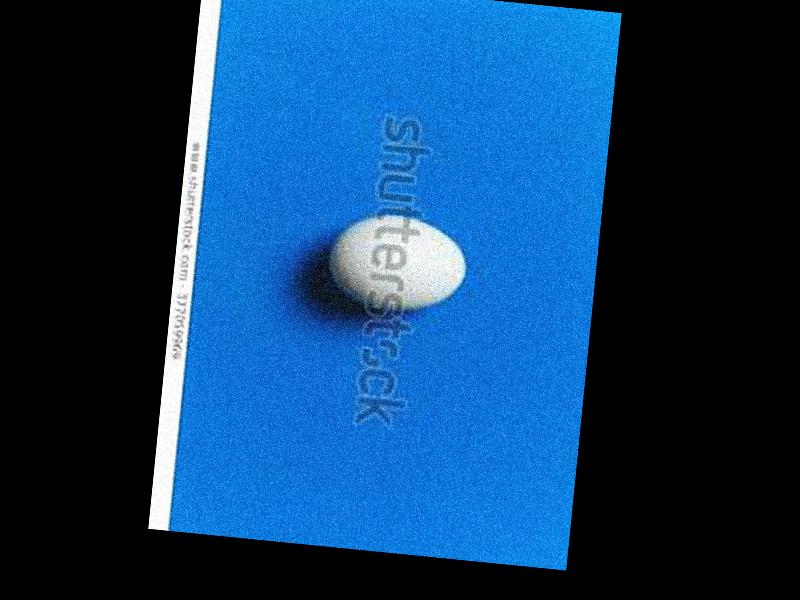Eggs: (325, 211, 474, 317)
